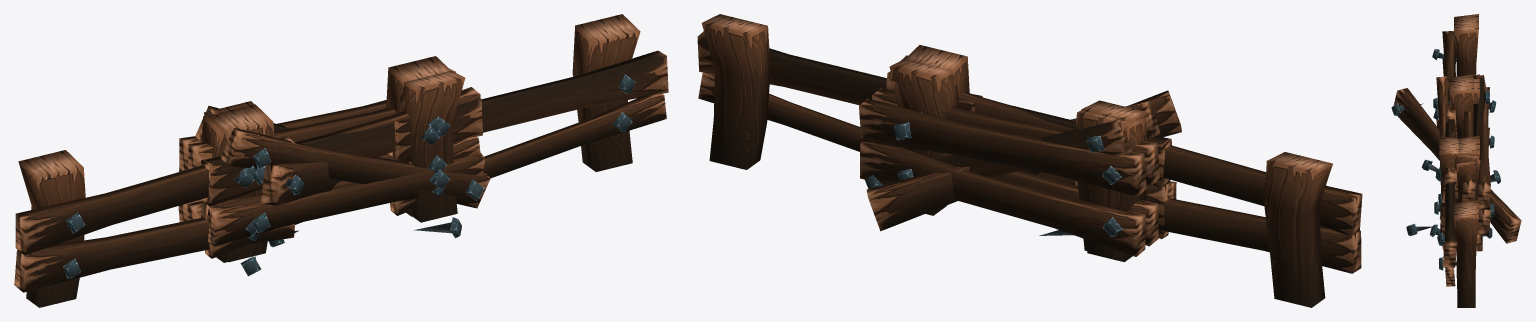
Rendered from ENV_FenceBuildingKit_001.fbx.
3 views of the same model, side by side, from view 1: azimuth 30°, elevation 25°; view 2: azimuth 150°, elevation 25°; view 3: azimuth 270°, elevation 25° (orthographic). The views are drawn at different scales.
Visible parts, largest first — view 1: ENV_Fence_ChainComplete_001, ENv_Fence_SingleBroken_001, ENV_Fence_SingleHalfF_001, ENV_Fence_SingleHalfB_001, ENV_Fence_SingleHalfBrokenF_001, ENV_Fence_SingleComplete_001; view 2: ENV_Fence_ChainComplete_001, ENV_Fence_SingleComplete_001, ENV_Fence_SingleHalfB_001, ENv_Fence_SingleBroken_001, ENv_Fence_SingeHalfBrokenB_001, ENV_Fence_SingleHalfF_001, ENV_Fence_SingleHalfBrokenF_001; view 3: ENV_Fence_ChainComplete_001, ENv_Fence_SingleBroken_001, ENV_Fence_SingleHalfB_001, ENV_Fence_SingleHalfBrokenF_001, ENV_Fence_SingleHalfF_001, ENv_Fence_SingeHalfBrokenB_001, ENV_Fence_SingleComplete_001.
Part boxes in pixels (x1,y1,x2,y2): ENV_Fence_ChainComplete_001: [14, 14, 668, 307]; ENv_Fence_SingleBroken_001: [207, 104, 484, 262]; ENV_Fence_SingleHalfF_001: [201, 57, 482, 258]; ENV_Fence_SingleHalfB_001: [187, 71, 465, 222]; ENV_Fence_SingleHalfBrokenF_001: [221, 128, 490, 276]; ENV_Fence_SingleComplete_001: [201, 56, 481, 243]; ENV_Fence_ChainComplete_001: [697, 14, 1362, 307]; ENV_Fence_SingleComplete_001: [886, 66, 1171, 259]; ENV_Fence_SingleHalfB_001: [872, 45, 1159, 246]; ENv_Fence_SingleBroken_001: [866, 81, 1181, 231]; ENv_Fence_SingeHalfBrokenB_001: [865, 117, 1132, 239]; ENV_Fence_SingleHalfF_001: [886, 59, 1171, 239]; ENV_Fence_SingleHalfBrokenF_001: [1071, 100, 1160, 138]; ENV_Fence_ChainComplete_001: [1432, 14, 1501, 307]; ENv_Fence_SingleBroken_001: [1391, 74, 1521, 243]; ENV_Fence_SingleHalfB_001: [1439, 111, 1478, 206]; ENV_Fence_SingleHalfBrokenF_001: [1421, 76, 1450, 250]; ENV_Fence_SingleHalfF_001: [1435, 98, 1478, 205]; ENv_Fence_SingeHalfBrokenB_001: [1473, 75, 1492, 251]; ENV_Fence_SingleComplete_001: [1433, 74, 1479, 210].
Bounding box in the file's own units: 406 × 85.54 × 104.
